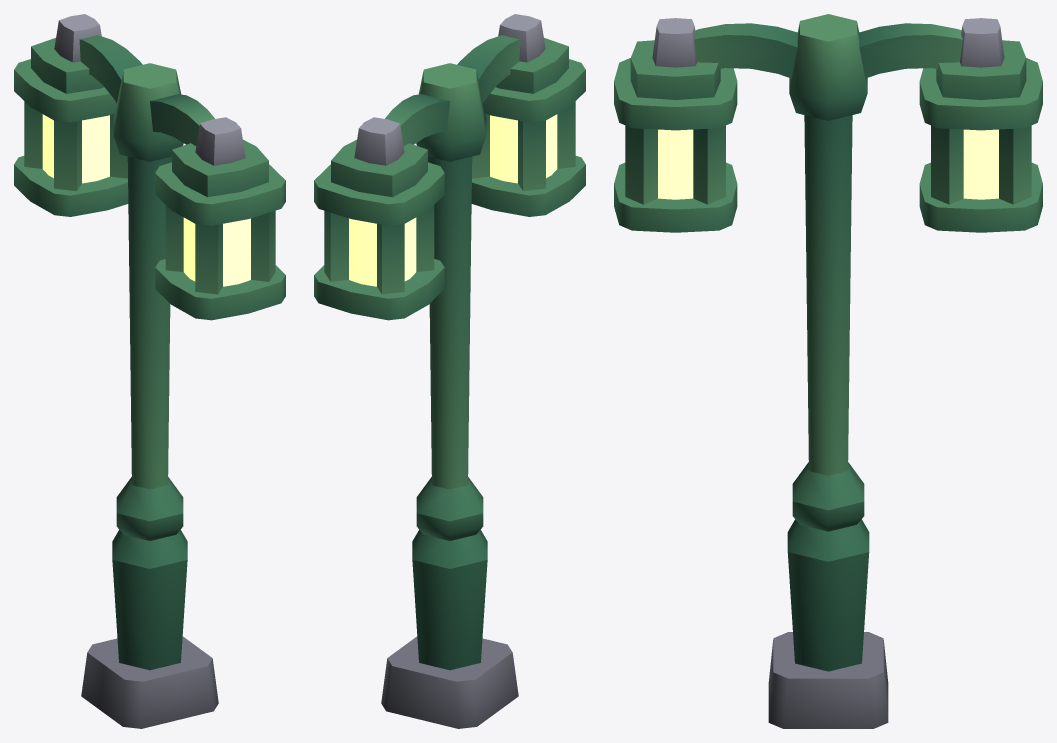
File: lightpost-double.glb
3 renders of one model, left to right at view 1: azimuth 30°, elevation 25°; view 2: azimuth 150°, elevation 25°; view 3: azimuth 270°, elevation 25°, orthographic. The views are drawn at different scales.
Visible parts, largest first — view 1: lightpost-double; view 2: lightpost-double; view 3: lightpost-double.
Part boxes in pixels (x1,y1,x2,y2): lightpost-double: [14, 14, 285, 728]; lightpost-double: [314, 14, 585, 728]; lightpost-double: [614, 14, 1042, 728].
Size of the model in its own units: 0.4285 by 2.6 by 1.49.
